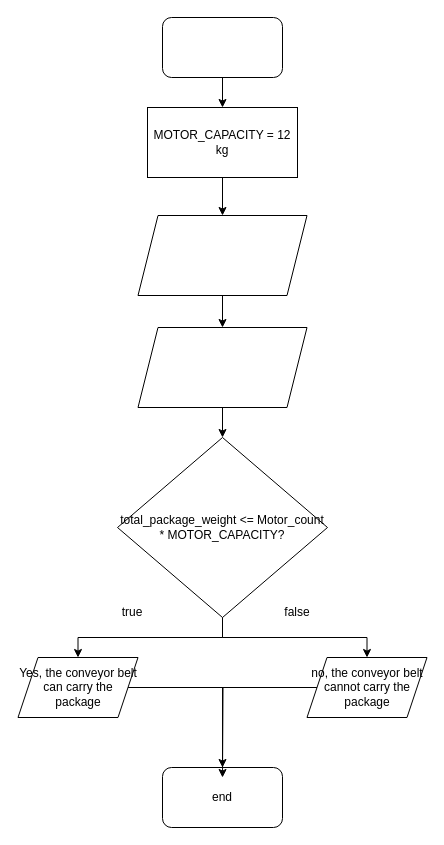
The diagram is 444 pixels wide and 845 high, and some of its shapes have lost their labels. Each missing label, with the centre of its shape:
ask for: Motor_count Inpuit: Motor_count: (222,255)
ask for: total_package_weight Input: total_package_weight: (222,367)
start: (222,47)
